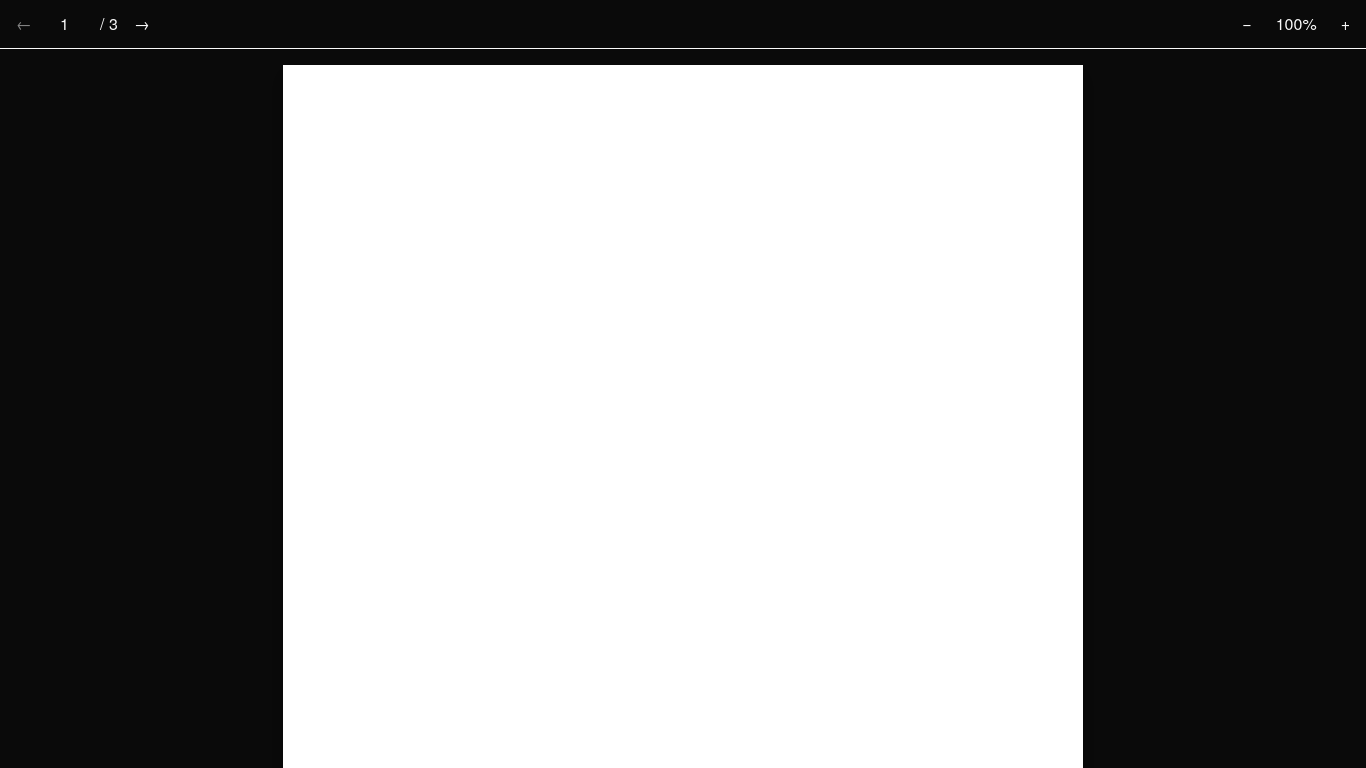
Scenario: PdfViewer › zooms in
Step 1. Click the button named "Zoom in" → (1345, 24), box [1333,8,1358,40]
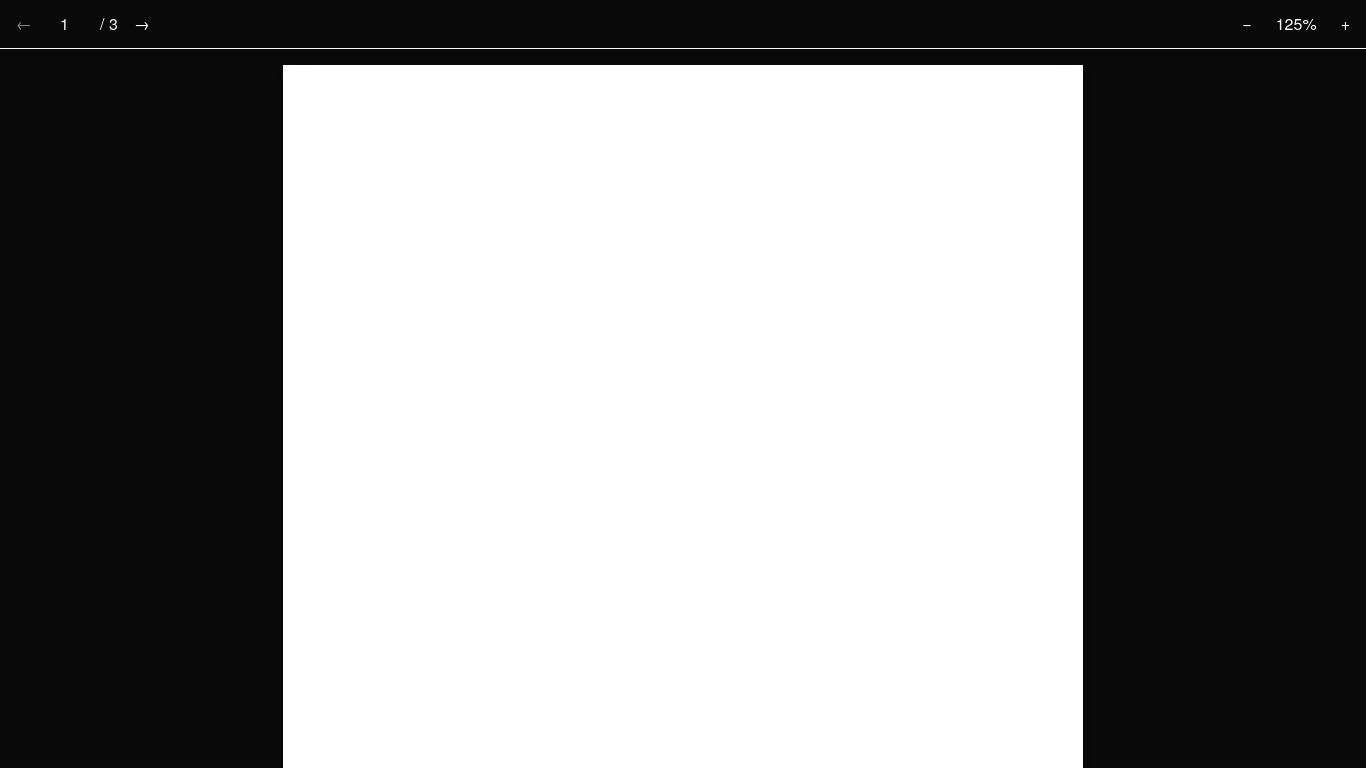
Now the button "125%" is shown, box [1268,8,1325,40]
